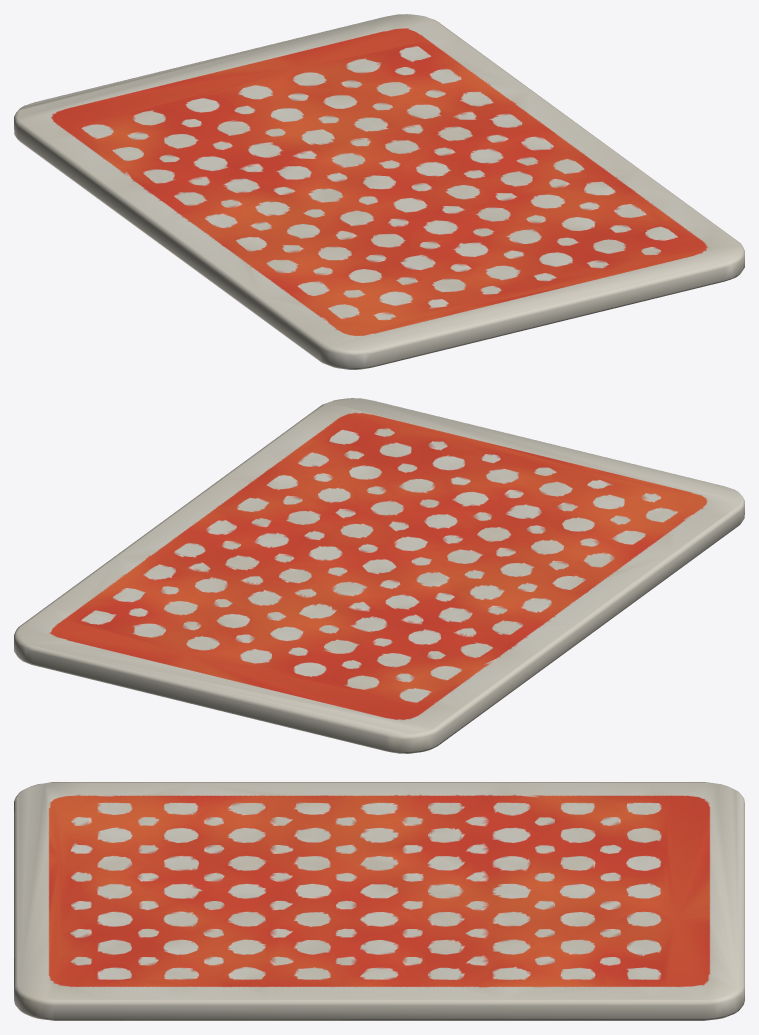
The model's file is card-face-down.glb.
3 views of the same model, one above another, from view 1: azimuth 30°, elevation 25°; view 2: azimuth 150°, elevation 25°; view 3: azimuth 270°, elevation 25° (orthographic). The views are drawn at different scales.
Visible parts, largest first — view 1: card_king; view 2: card_king; view 3: card_king.
Part boxes in pixels (x1,y1,x2,y2): card_king: (14, 14, 744, 369); card_king: (14, 398, 744, 753); card_king: (14, 782, 744, 1020).
Bounding box in the file's own units: 3 × 0.13 × 4.2.
